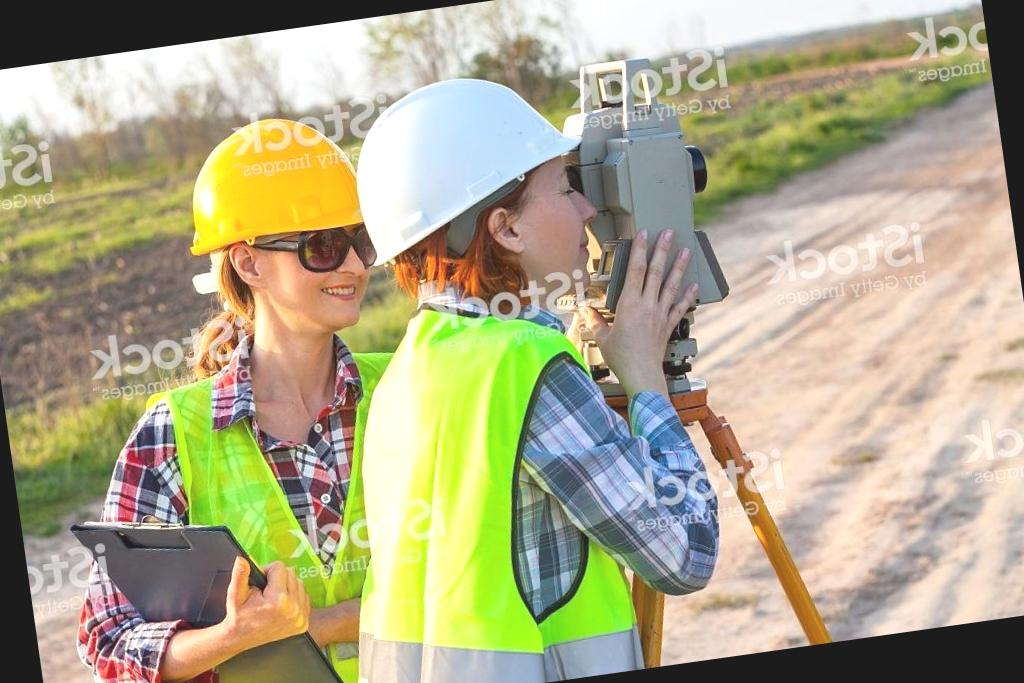helmet: (329, 54, 604, 279), (164, 98, 370, 273)
person: (6, 99, 441, 683), (360, 36, 747, 683)
